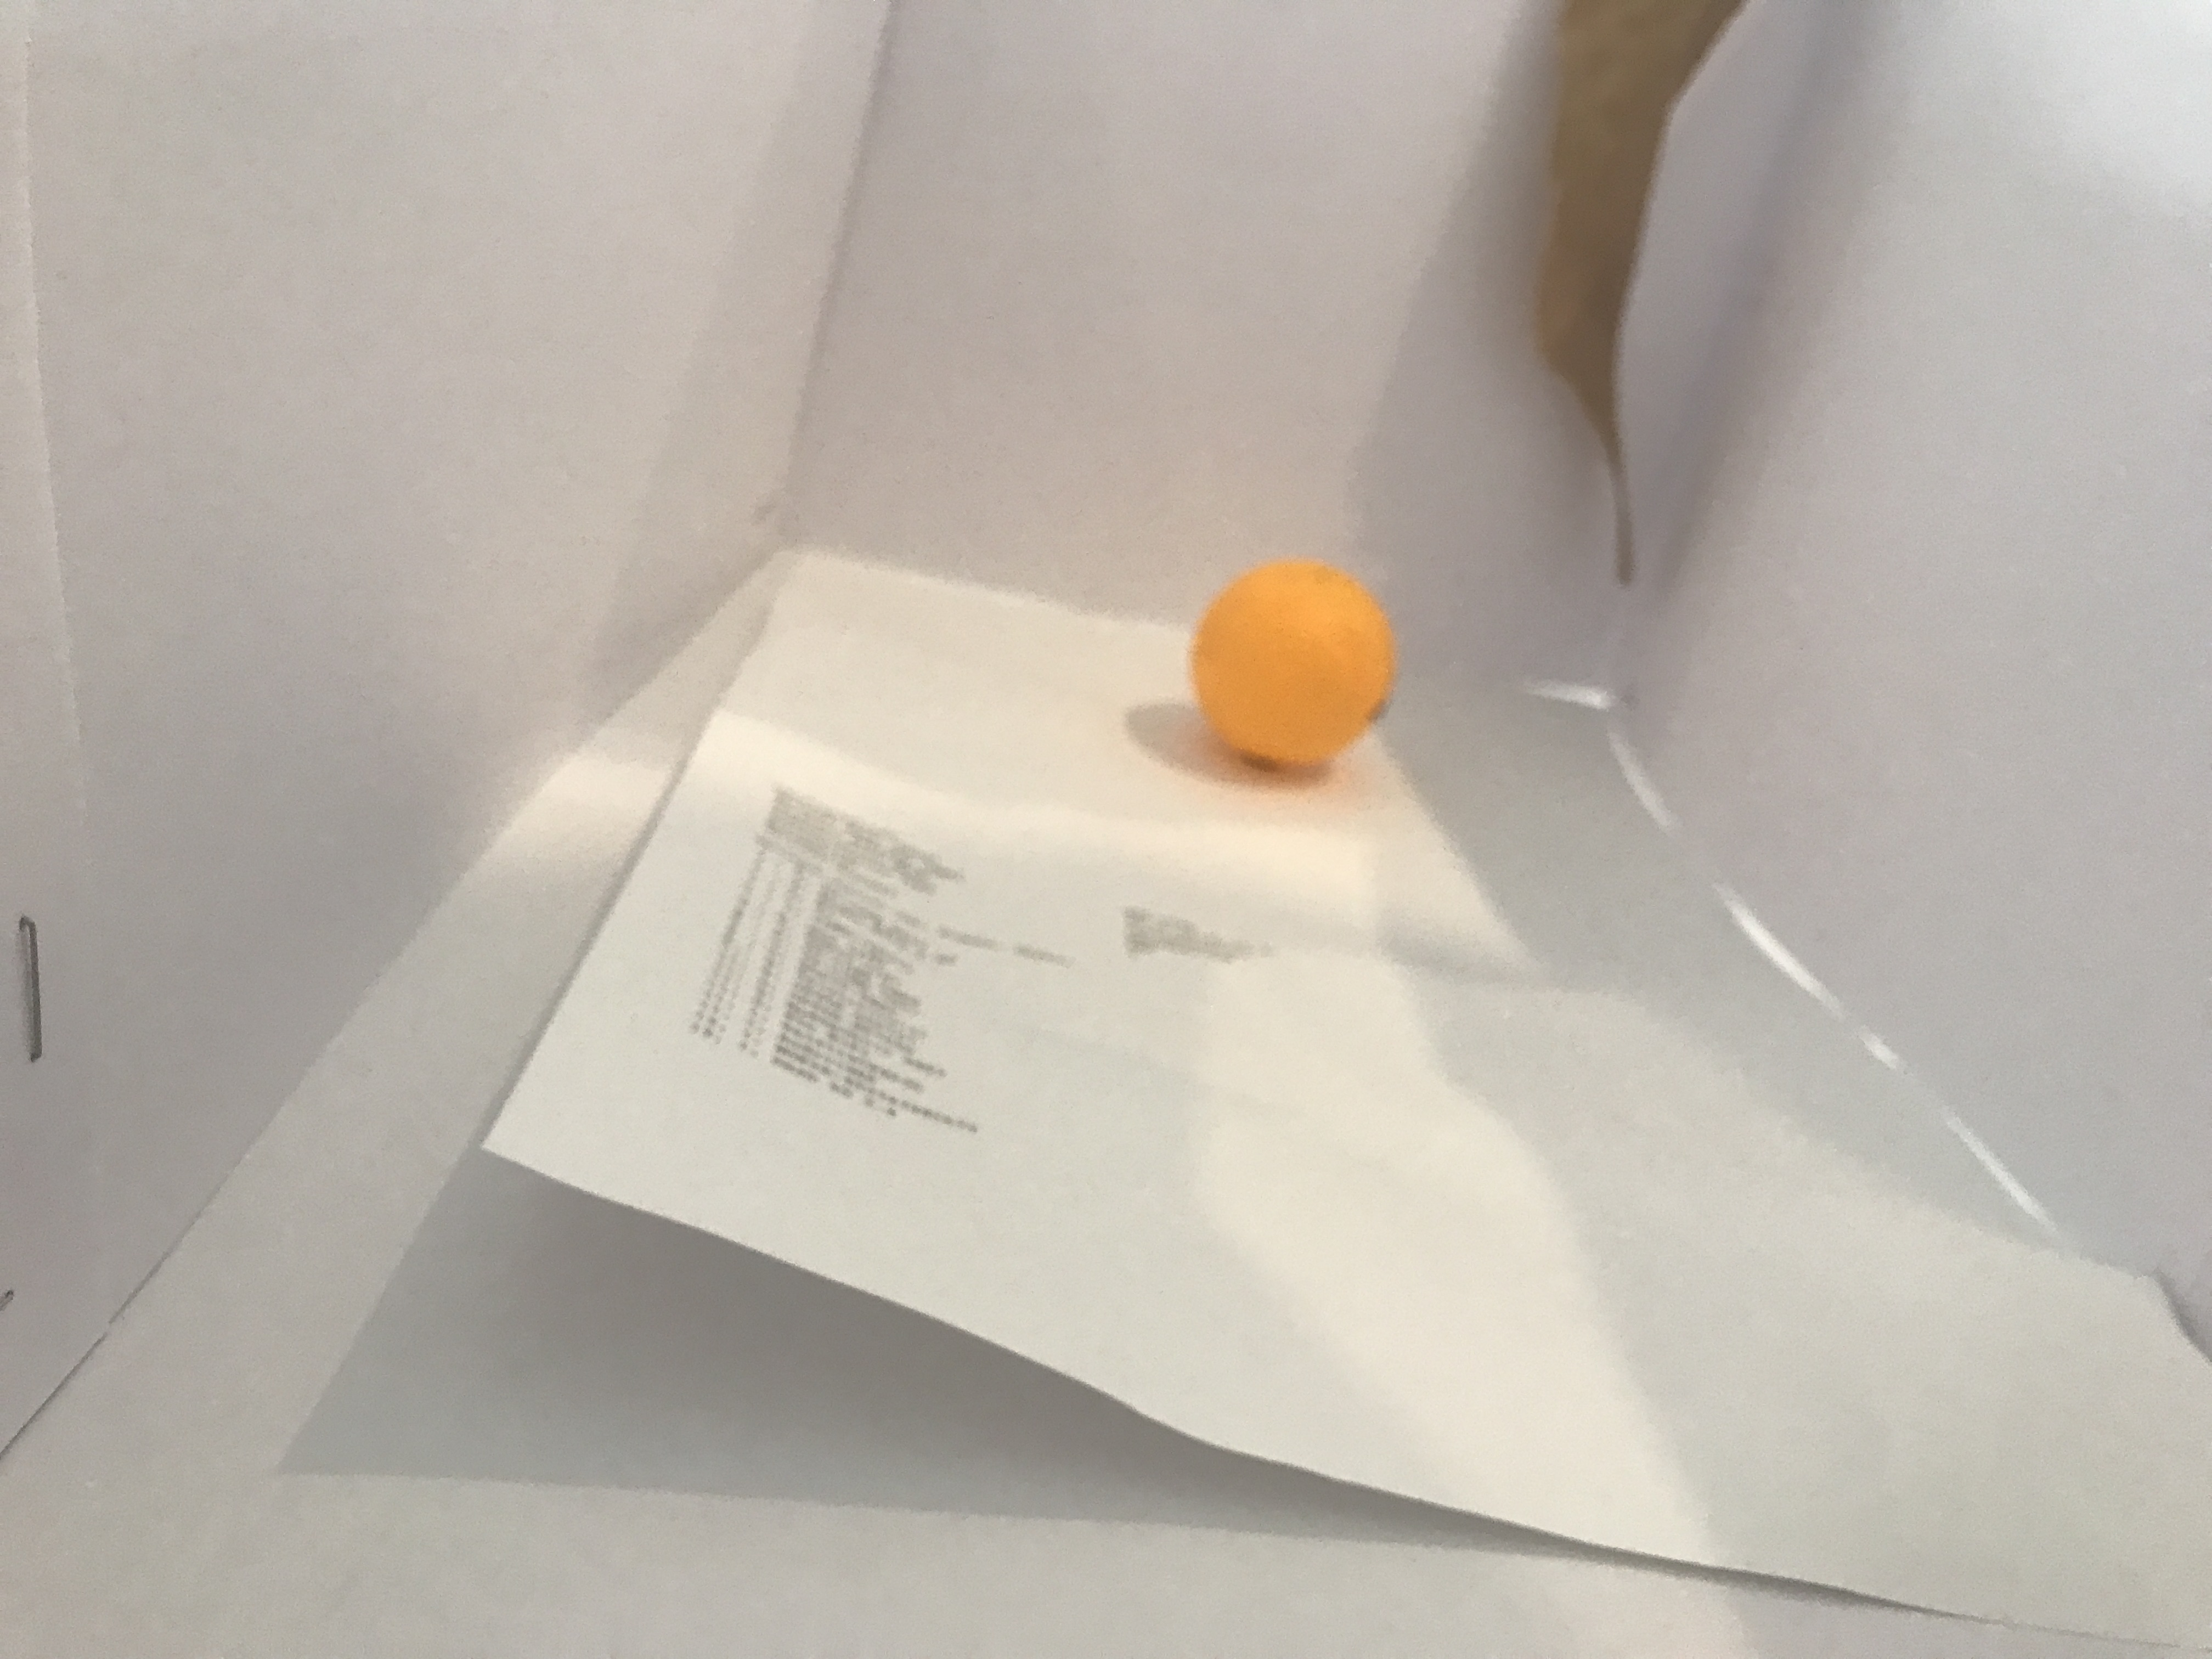pp: (1197, 556, 1392, 765)
